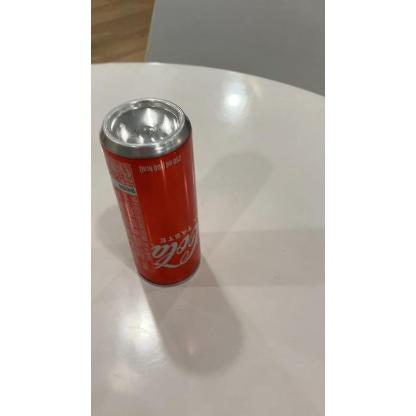Can: (100, 98, 200, 288)
